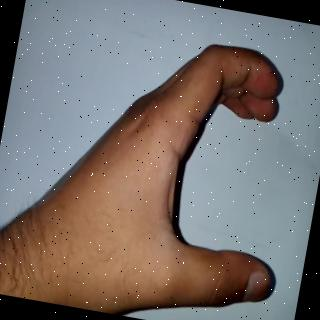C: (28, 9, 314, 320)
